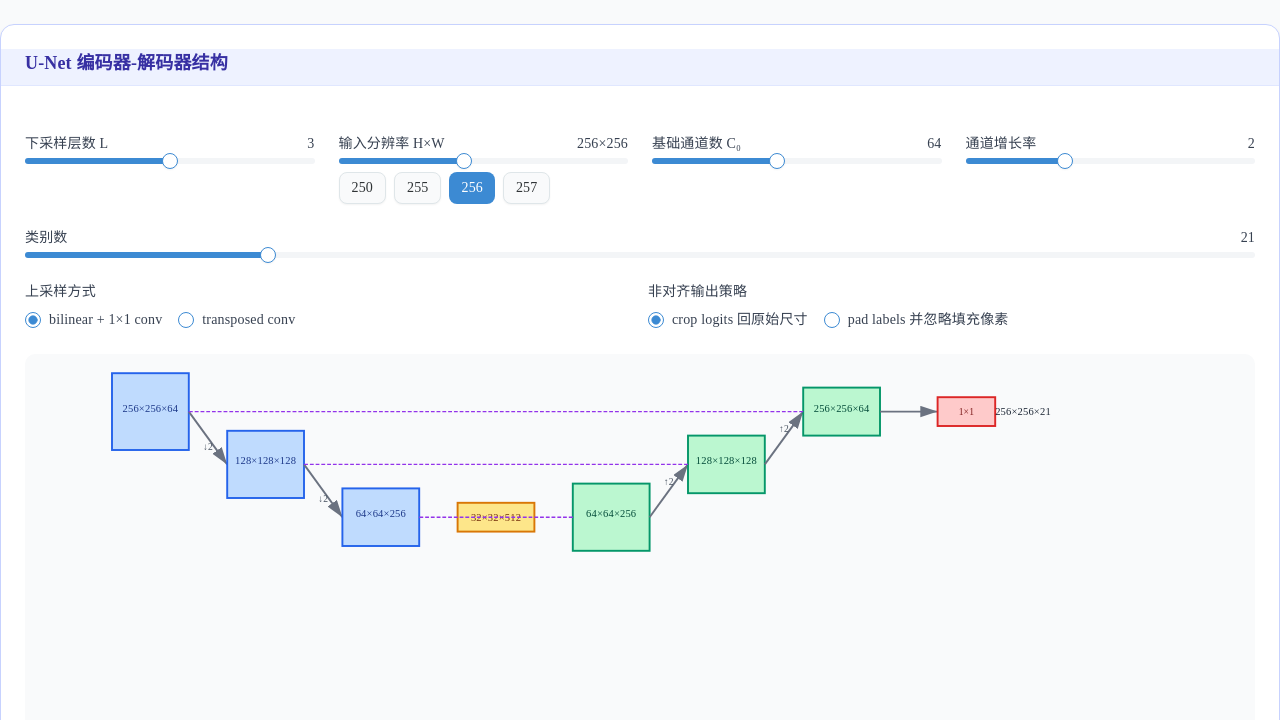
Test: pedagogical invariants: fourth batch › U-Net demo warns about non-aligned input presets
Click the button "255" at (418, 188), box [394, 172, 442, 204]
(page scrolled)
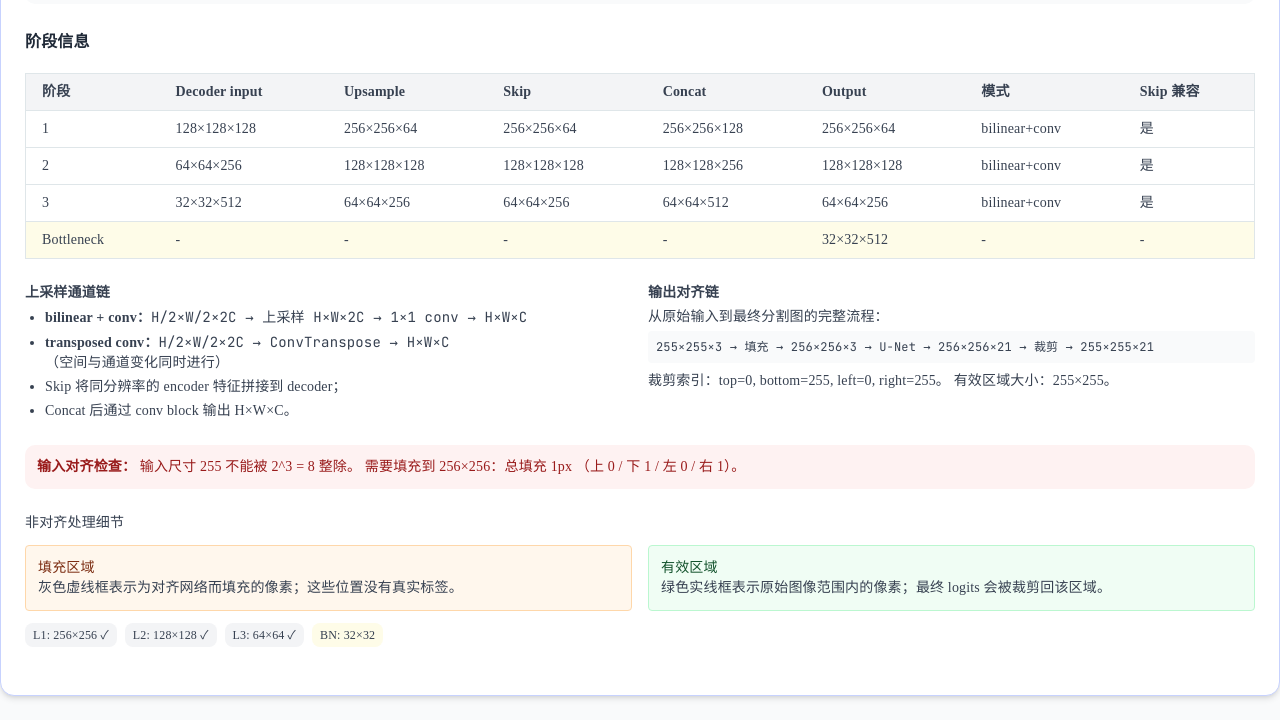
Expected: the text "输入对齐检查：" is shown, [37, 459, 136, 474]
Expected: the text "需要填充到" is shown, [315, 459, 439, 474]
